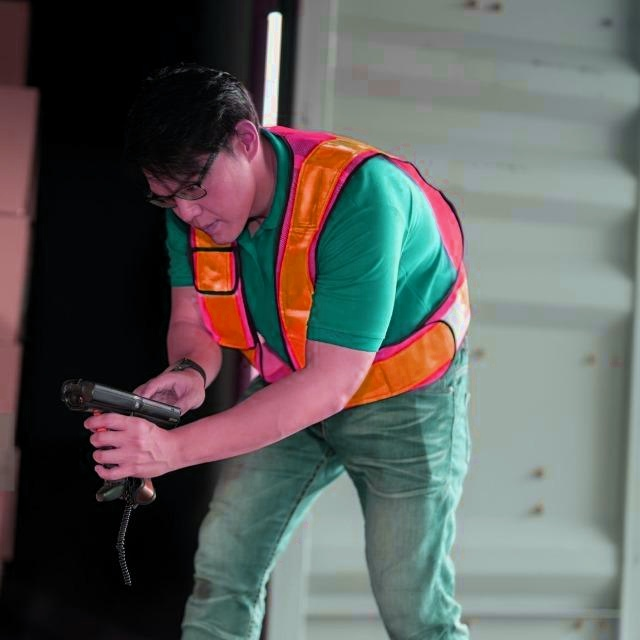Con_Chaleco: (196, 132, 466, 388)
Sin_Casco_Mascarrilla: (123, 63, 261, 244)
